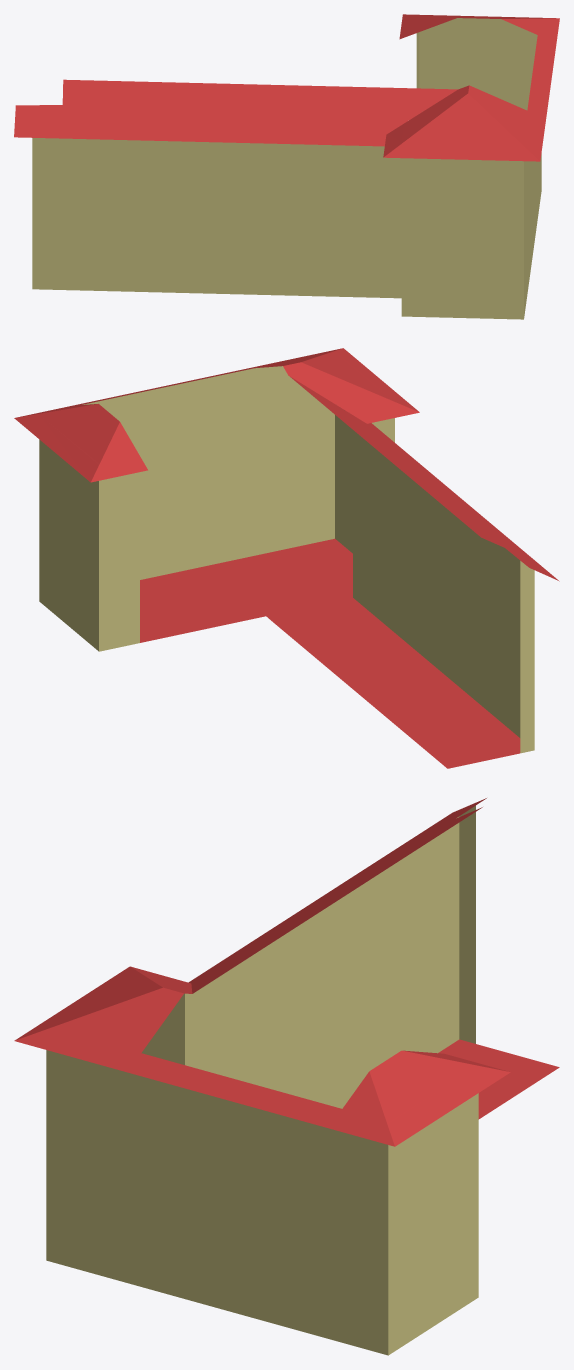
3 views of the same model, one above another, from view 1: azimuth 30°, elevation 25°; view 2: azimuth 150°, elevation 25°; view 3: azimuth 270°, elevation 25° (orthographic). The views are drawn at different scales.
Parts seen in each view (by area): view 1: group_5, group_9, group_3, group_7, group_4; view 2: group_9, group_5, group_6, group_7, group_10, group_3; view 3: group_9, group_5, group_7, group_3, group_6.
Boxes of the visible parts, x1,y1,x2,y2 form: group_5: (32,138,401,298); group_9: (401,18,541,319); group_3: (14,79,457,146); group_7: (383,14,559,161); group_4: (15,105,361,144); group_9: (39,366,394,651); group_5: (353,430,534,753); group_6: (225,574,520,768); group_7: (14,348,419,482); group_10: (140,538,352,642); group_3: (289,376,559,581); group_9: (46,1020,478,1355); group_5: (165,805,475,1108); group_7: (14,966,510,1146); group_3: (188,798,486,993); group_6: (438,1039,559,1119).
Bounding box in the file's own units: 26.14 × 17.56 × 9.4.
